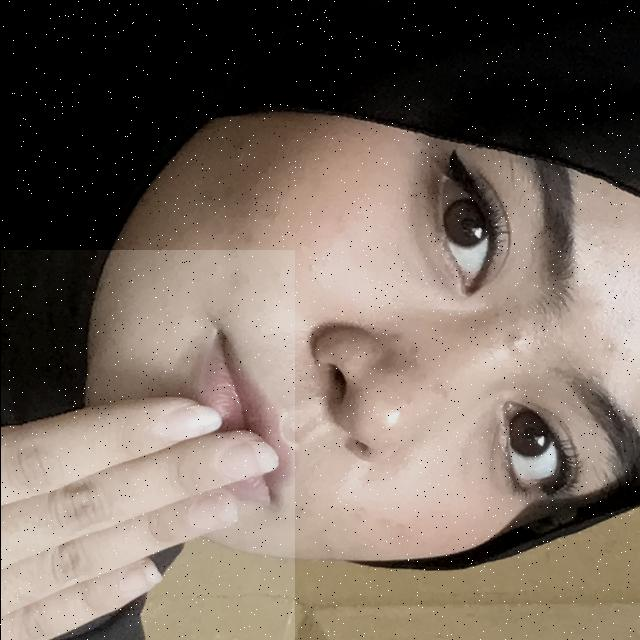ganteng: (0, 250, 294, 640)
